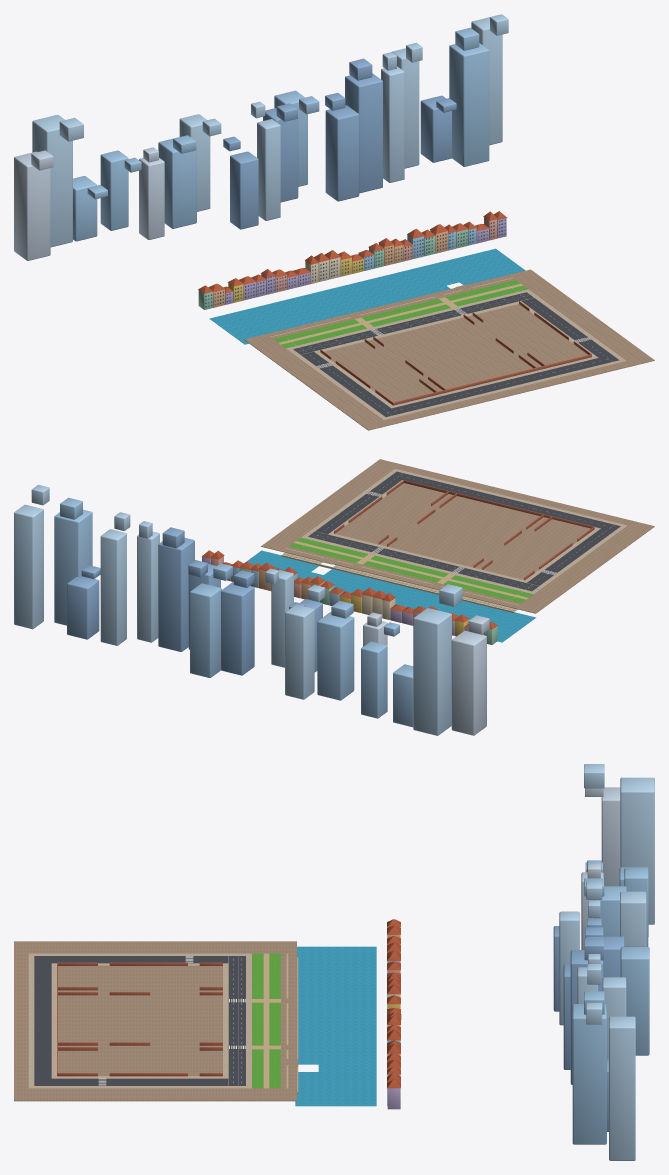
File: old_town_ground.gltf
The picture shows the model from 3 angles, top to bottom: view 1: azimuth 30°, elevation 25°; view 2: azimuth 150°, elevation 25°; view 3: azimuth 270°, elevation 25°; orthographic projection. The views are drawn at different scales.
Visible parts, largest first — view 1: backdrop, ground_c-col, base_slab-col, ground_w, ground_a-col, ground_s-col, ground_g-col, garden_walls-col, ground_p-col; view 2: backdrop, ground_c-col, base_slab-col, ground_a-col, ground_w, ground_s-col, ground_g-col, garden_walls-col, ground_p-col, quay_walls-col, ground_q-col, curbs; view 3: backdrop, ground_c-col, ground_w, base_slab-col, ground_a-col, ground_s-col, ground_g-col, garden_walls-col, ground_p-col, quay_walls-col.
Boxes of the visible parts, left/top/right/bottom form: backdrop: left=14, top=14, right=508, bottom=309; ground_c-col: left=324, top=304, right=587, bottom=402; base_slab-col: left=244, top=269, right=654, bottom=430; ground_w: left=209, top=248, right=525, bottom=344; ground_a-col: left=293, top=292, right=619, bottom=416; ground_s-col: left=286, top=289, right=625, bottom=419; ground_g-col: left=273, top=280, right=527, bottom=348; garden_walls-col: left=320, top=301, right=591, bottom=405; ground_p-col: left=278, top=283, right=522, bottom=344; backdrop: left=14, top=484, right=497, bottom=735; ground_c-col: left=335, top=483, right=590, bottom=579; base_slab-col: left=261, top=459, right=654, bottom=613; ground_a-col: left=308, top=471, right=620, bottom=591; ground_w: left=245, top=550, right=536, bottom=642; ground_s-col: left=301, top=469, right=627, bottom=594; ground_g-col: left=289, top=537, right=533, bottom=603; garden_walls-col: left=334, top=480, right=594, bottom=579; ground_p-col: left=294, top=541, right=528, bottom=599; quay_walls-col: left=281, top=548, right=518, bottom=612; ground_q-col: left=283, top=552, right=517, bottom=611; curbs: left=308, top=531, right=538, bottom=591; backdrop: left=387, top=764, right=654, bottom=1160; ground_c-col: left=58, top=965, right=222, bottom=1075; ground_w: left=295, top=946, right=376, bottom=1106; base_slab-col: left=14, top=941, right=296, bottom=1101; ground_a-col: left=34, top=956, right=245, bottom=1085; ground_s-col: left=28, top=953, right=251, bottom=1088; ground_g-col: left=252, top=953, right=280, bottom=1088; garden_walls-col: left=57, top=962, right=222, bottom=1076; ground_p-col: left=252, top=953, right=280, bottom=1088; quay_walls-col: left=286, top=953, right=298, bottom=1093.
Size of what is drawn, in the model's own units: 434 by 119 by 442.
Materials: 23 (16 with a texture image).
